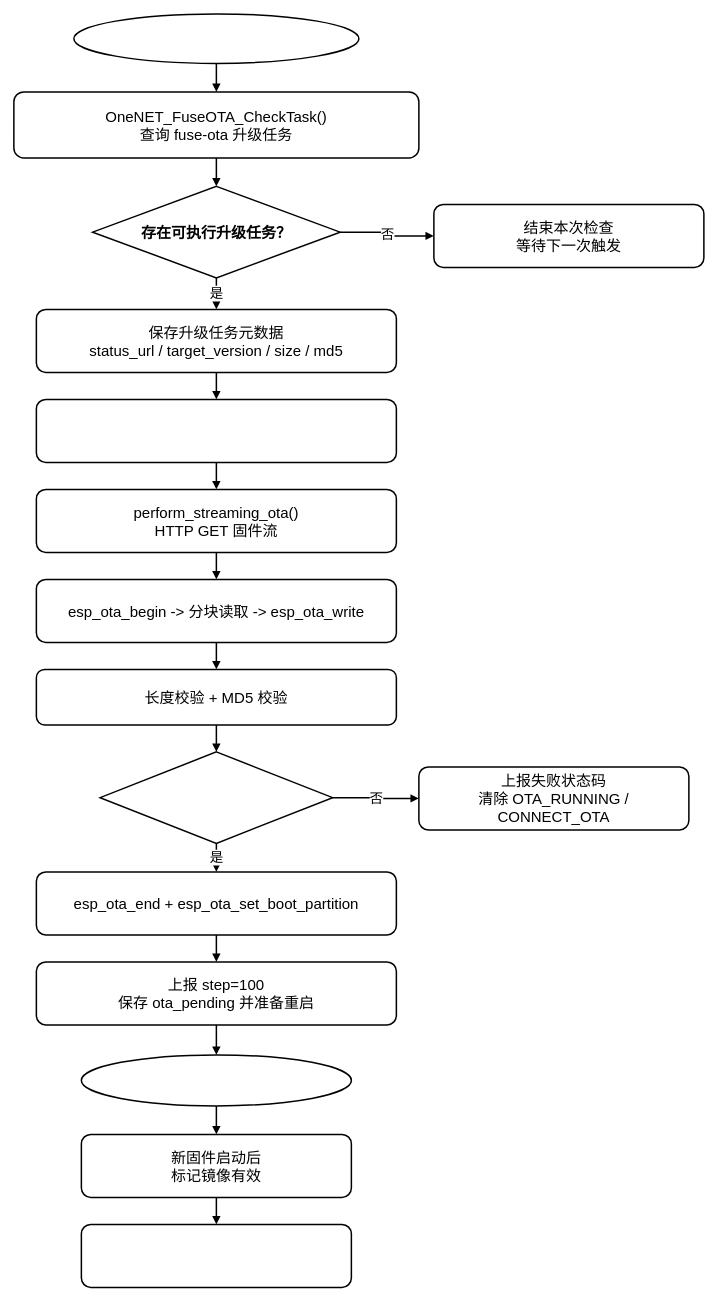
Some shapes in this 717 by 1301 pixel diagram are drawn without their labels. The centre of each missing label's shape, as x and y in pixels:
esp_restart(): the point at 216,1080
WiFi_Cat1_StartOTA(url) 置位 OTA_RUNNING: the point at 216,430
上报 step=201 清除 ota_pending: the point at 216,1255
启动后或收到 ota/inform: the point at 216,38
固件写入与校验成功？: the point at 216,797
